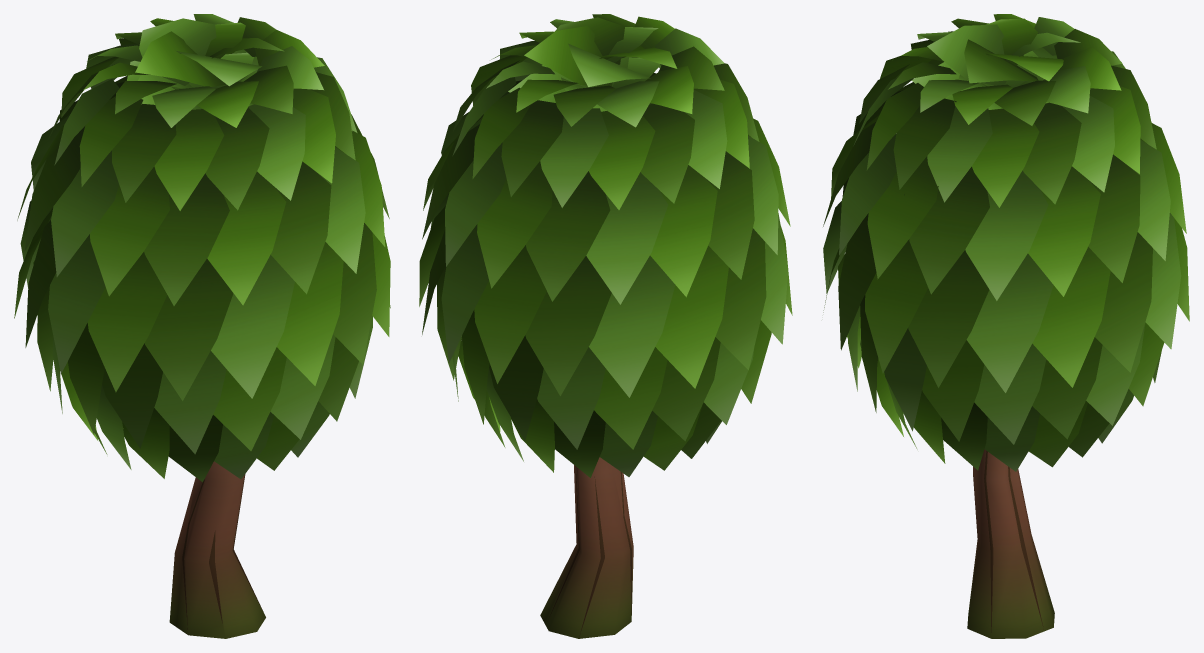
File: Tree_03.fbx
3 views of the same model, side by side, from view 1: azimuth 30°, elevation 25°; view 2: azimuth 150°, elevation 25°; view 3: azimuth 270°, elevation 25° (orthographic). The views are drawn at different scales.
Visible parts, largest first — view 1: Tree_03; view 2: Tree_03; view 3: Tree_03.
Boxes of the visible parts, left/top/right/bottom form: Tree_03: left=14, top=14, right=390, bottom=638; Tree_03: left=419, top=14, right=792, bottom=638; Tree_03: left=823, top=14, right=1189, bottom=638.
Bounding box in the file's own units: 392 × 673 × 392.
2 materials, 2 textured.
